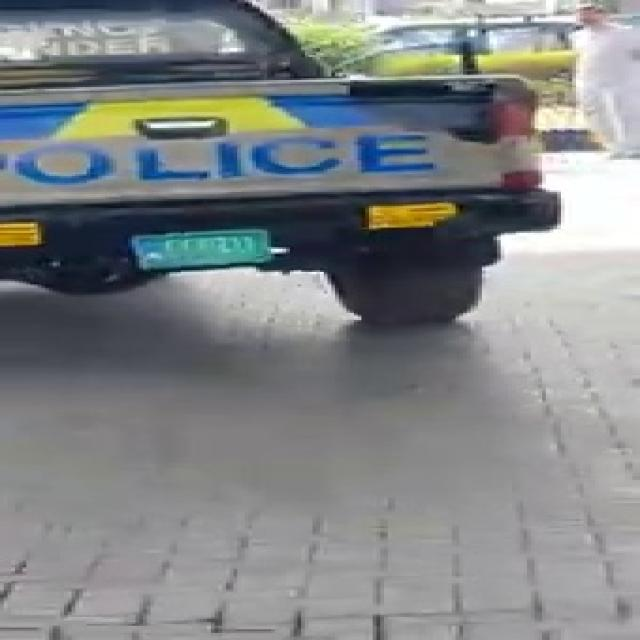police: (14, 10, 600, 310)
